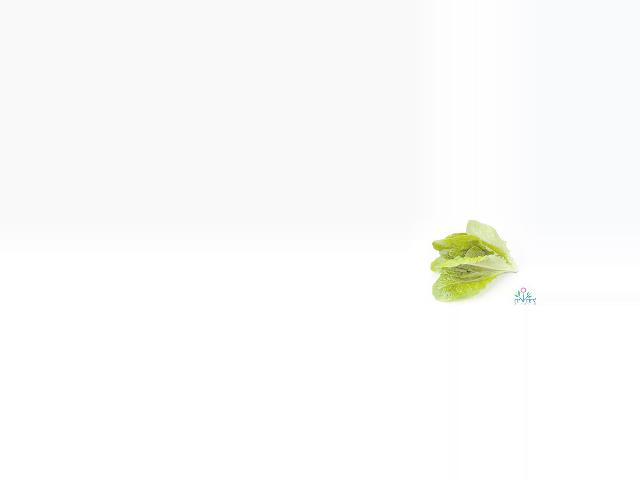lettuce: (427, 218, 518, 300)
